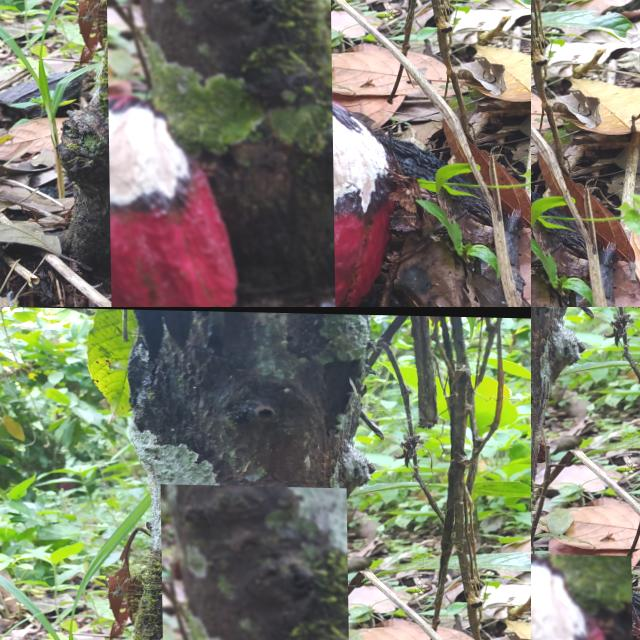Monilia: (160, 483, 350, 640), (531, 550, 632, 640)
Sana: (104, 0, 333, 307)
